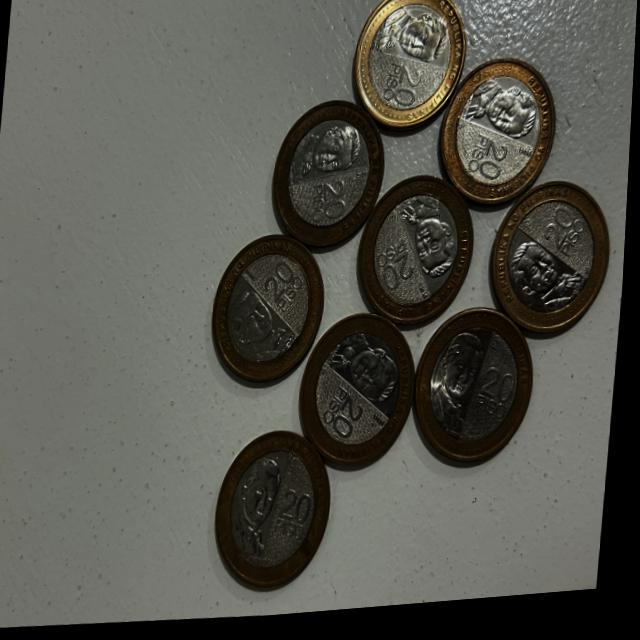20_New_Front: (474, 363, 532, 446), (272, 482, 327, 561), (258, 258, 314, 326), (458, 131, 517, 192), (375, 229, 424, 299), (312, 173, 369, 233), (377, 61, 434, 119), (320, 391, 372, 453), (536, 214, 592, 271)
